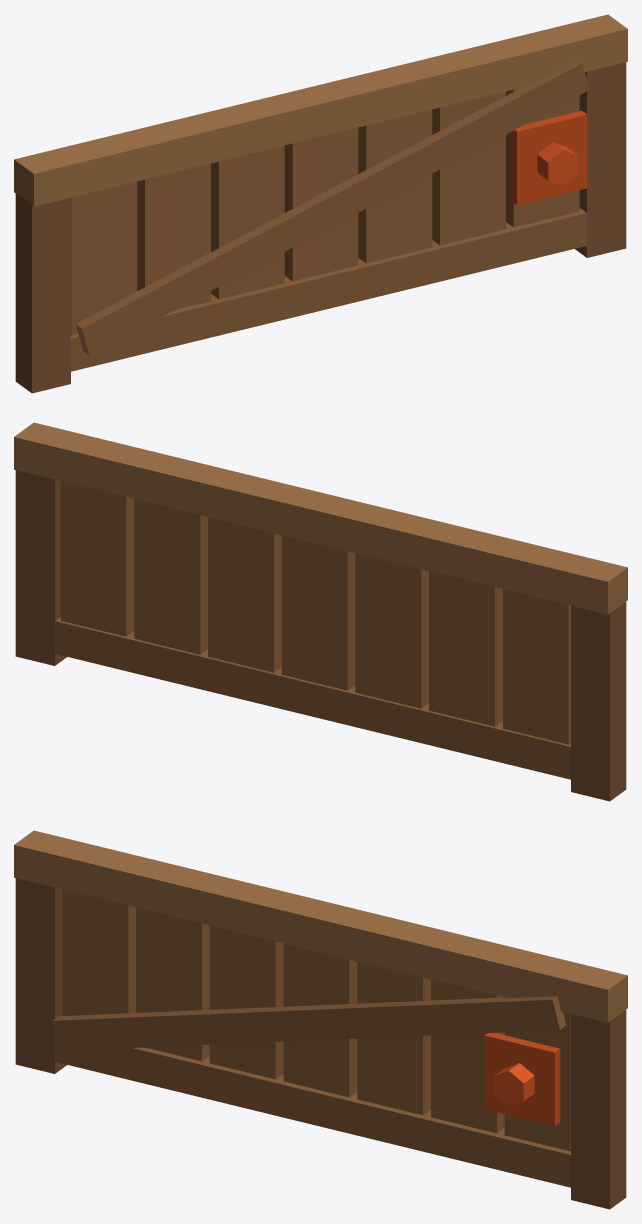
The model's file is gate_bar.fbx.
3 renders of one model, top to bottom at view 1: azimuth 30°, elevation 25°; view 2: azimuth 150°, elevation 25°; view 3: azimuth 330°, elevation 25°, orthographic.
Parts seen in each view (by area): view 1: gate_bar; view 2: gate_bar; view 3: gate_bar.
Part boxes in pixels (x1=…): gate_bar: x1=14, y1=14, x2=627, y2=393; gate_bar: x1=14, y1=422, x2=627, y2=801; gate_bar: x1=14, y1=830, x2=627, y2=1209.
Size of the model in its own units: 7.6 by 2.7 by 0.82.
